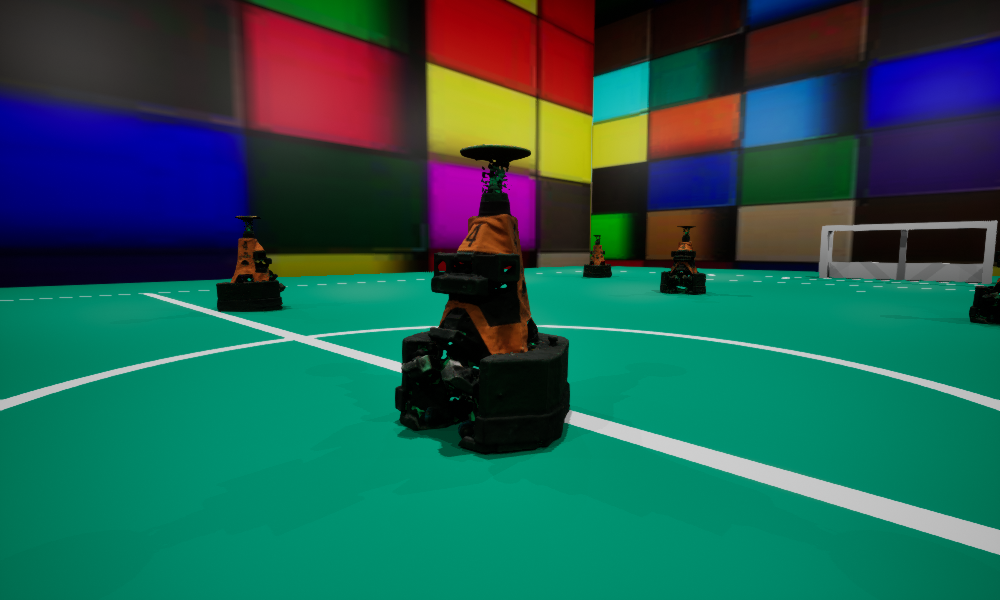o: (395, 144, 569, 451), (216, 216, 285, 311), (660, 226, 705, 293), (969, 251, 999, 323), (583, 235, 611, 277)
